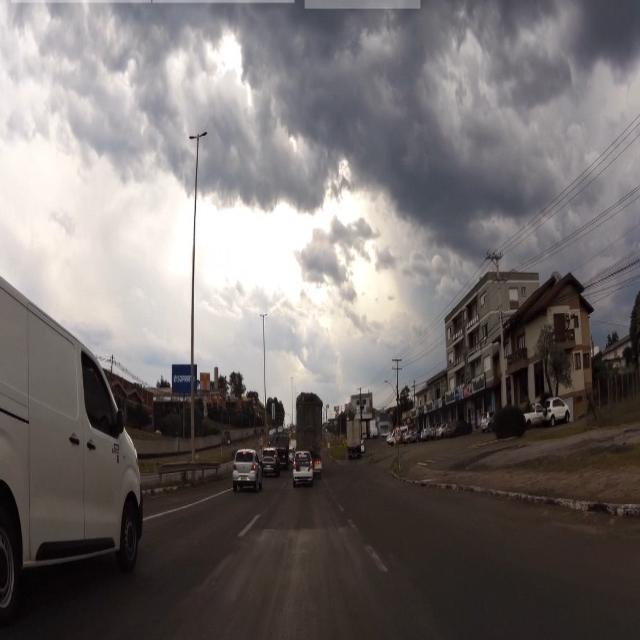R-19: (394, 426, 401, 442)
